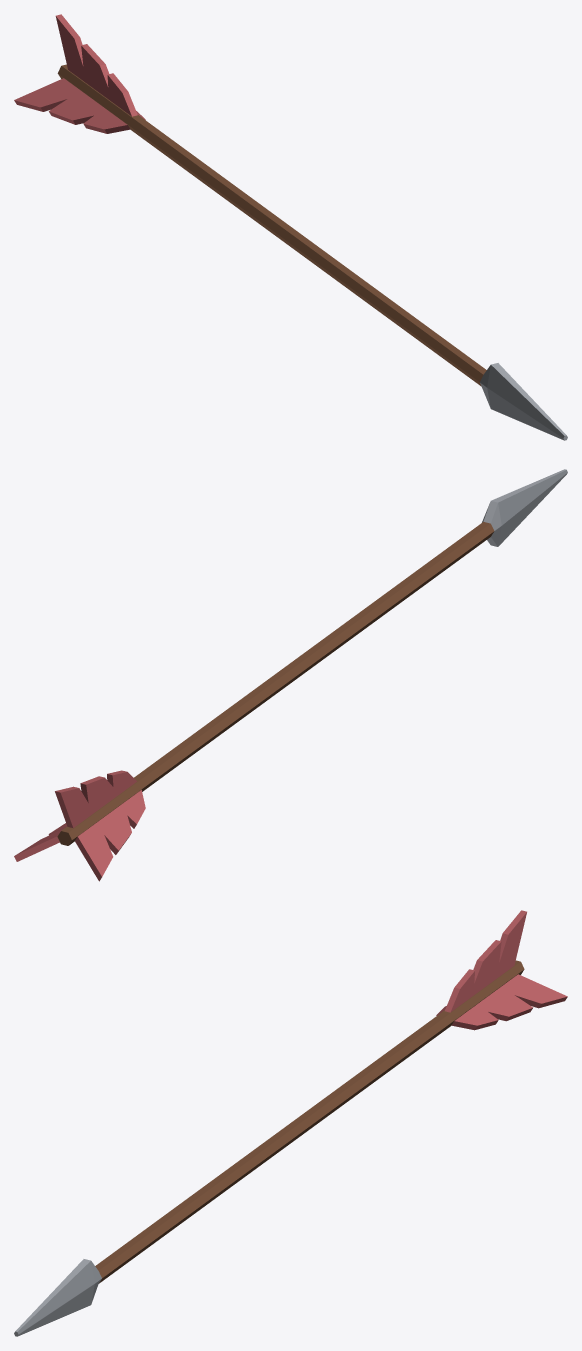
Rendered from Arrow.glb.
The picture shows the model from 3 angles, top to bottom: view 1: azimuth 30°, elevation 25°; view 2: azimuth 150°, elevation 25°; view 3: azimuth 330°, elevation 25°; orthographic projection.
Visible parts, largest first — view 1: Arrow; view 2: Arrow; view 3: Arrow.
Boxes of the visible parts, bbox=[...] form: Arrow: bbox=[14, 14, 567, 440]; Arrow: bbox=[14, 469, 567, 881]; Arrow: bbox=[14, 910, 567, 1336].
Size of the model in its own units: 0.2741 by 0.2383 by 2.73.
